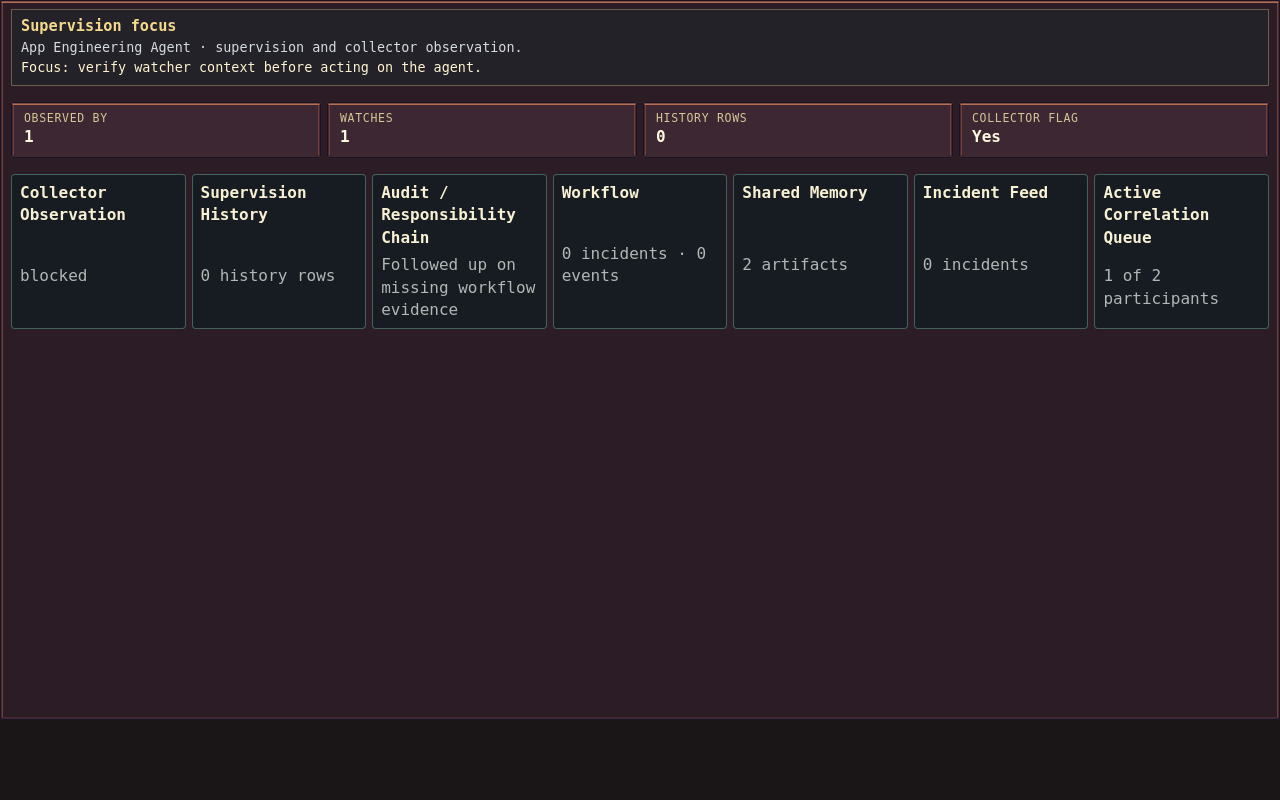
Scenario: DetailsPanel selected-agent category IA › opens the active correlation queue from the selected-agent supervision deck and returns to the deck
Expected: the text "1 of 2 participants" is shown, left=1103, top=266, right=1219, bottom=308
What coordinates should you click on to do the following:
click the button with aria-label "Open Active Correlation Queue supervision panel"
I would click on:
 (1182, 252)
Its box is left=1094, top=174, right=1269, bottom=329.
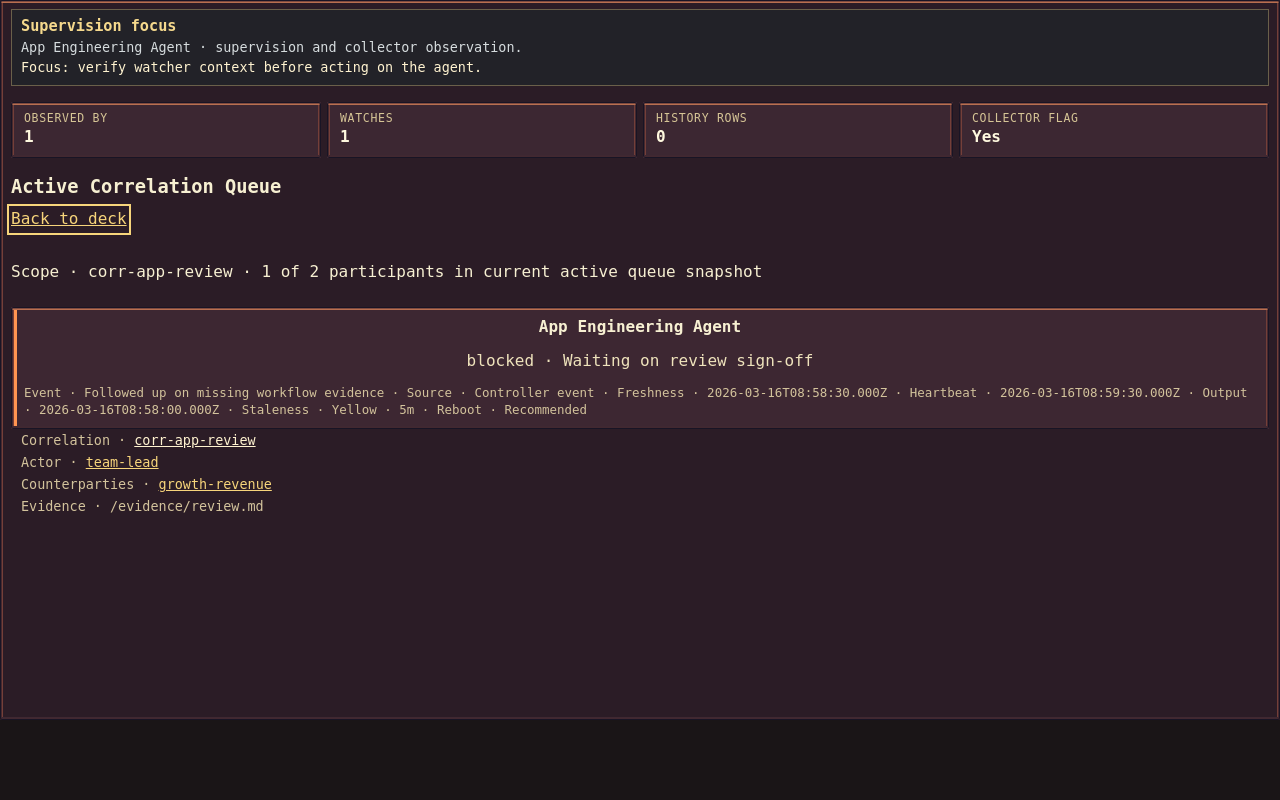
Expected: the heading "Active Correlation Queue" is shown, left=11, top=176, right=281, bottom=197
Expected: the text "Scope · corr-app-review · 1 of 2 participants in current active queue snapshot" is shown, left=11, top=262, right=762, bottom=281
Expected: the button with aria-label "Back to supervision deck" is shown
What coordinates should you click on to do the following:
click the button with aria-label "Back to supervision deck"
I would click on:
 (69, 219)
Its box is left=11, top=208, right=127, bottom=231.
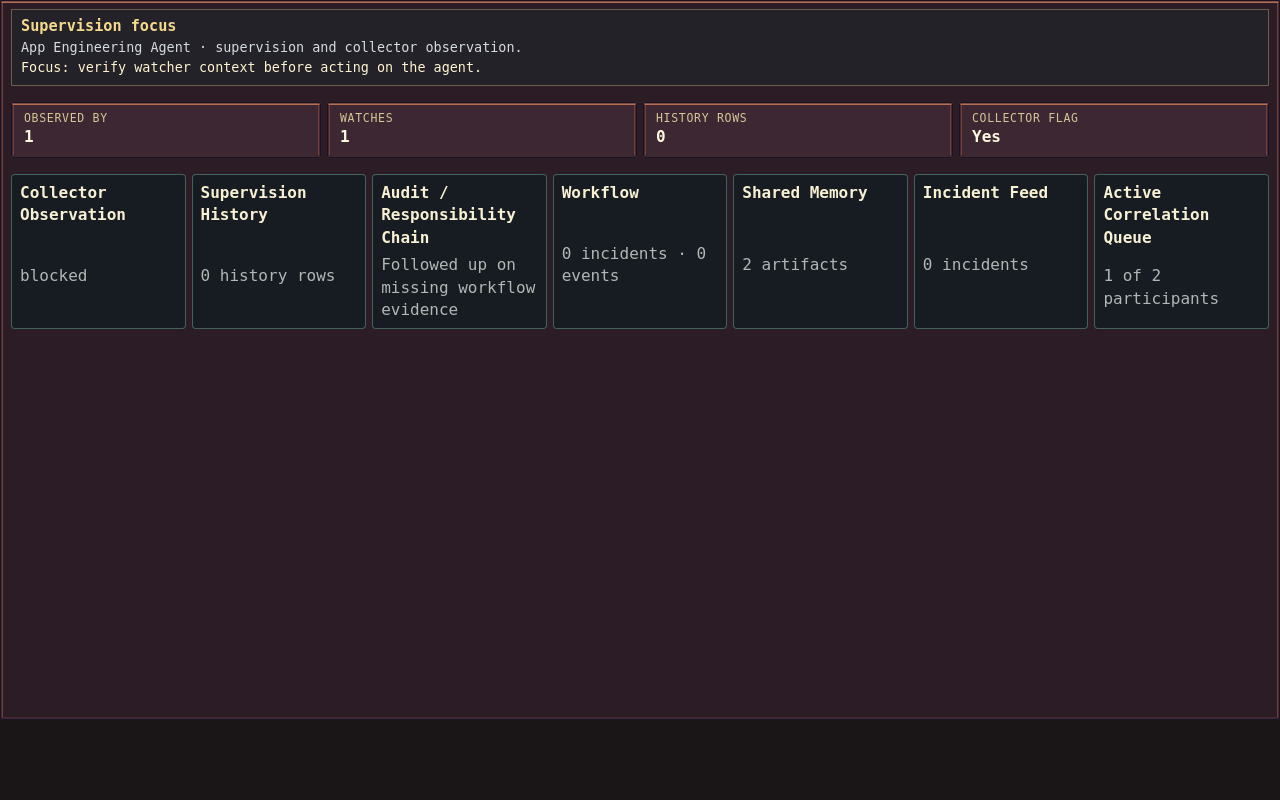
Expected: the element named "Selected agent supervision deck" is shown, left=11, top=174, right=1269, bottom=329
